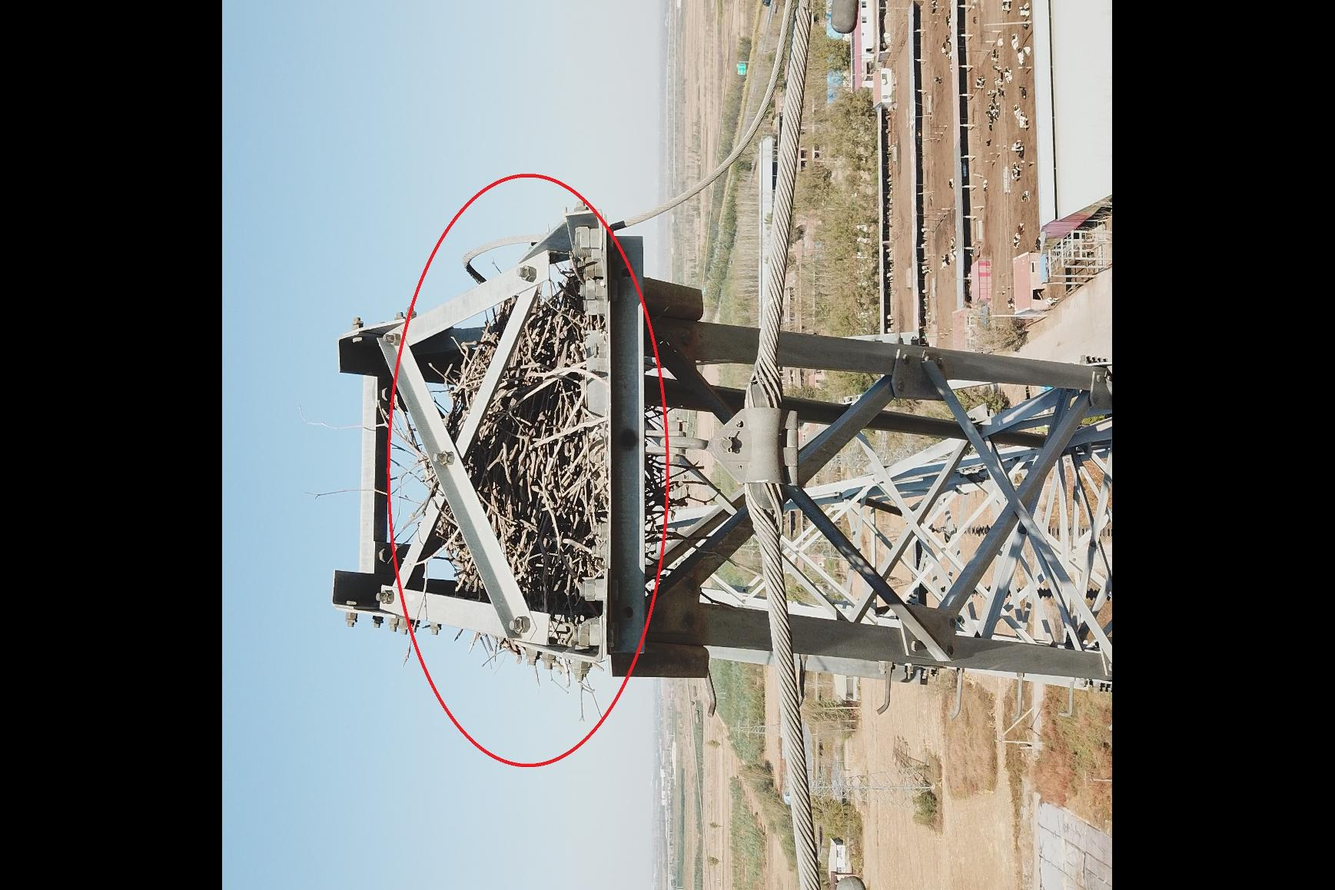nest: (403, 269, 599, 677)
